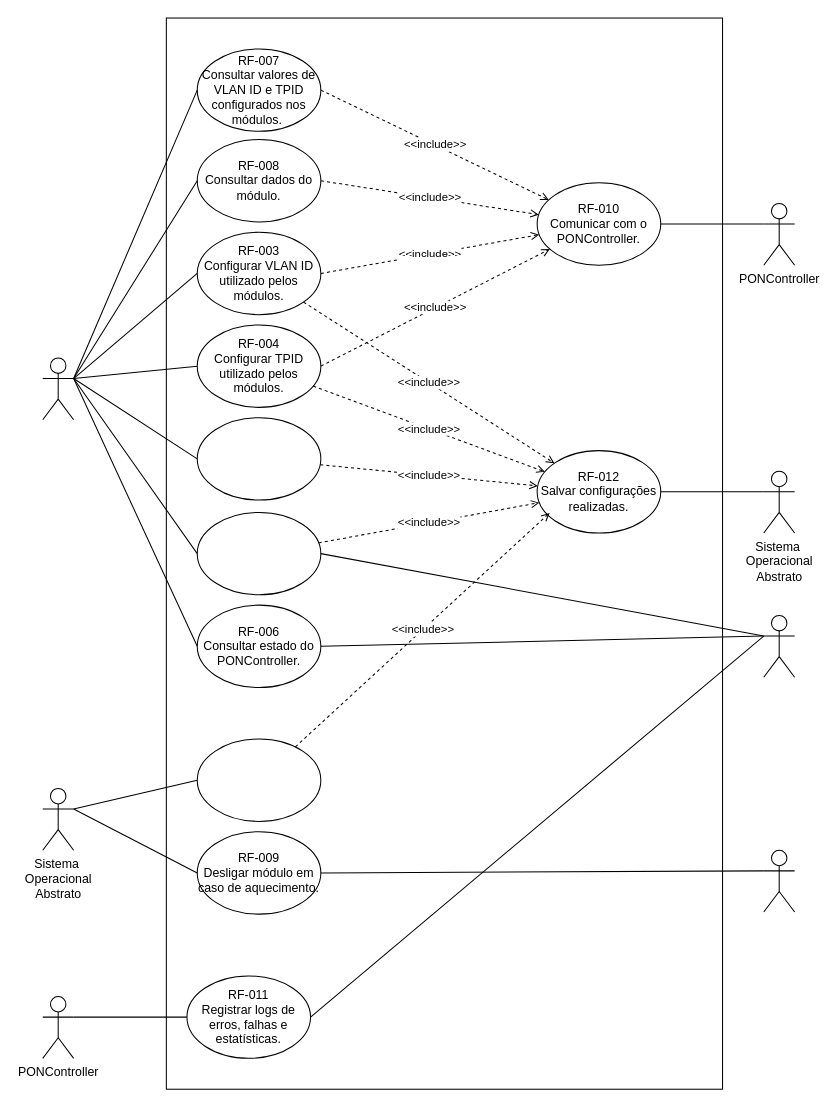
The diagram is 836 pixels wide and 1107 high, and some of its shapes have lost their labels. Here are the shapes that lost their labels. From the top down, the box of each, then its label:
(42, 357, 74, 420): Usuário
(196, 417, 321, 500): RF-001 Configurar IP banco de dados
(196, 511, 321, 595): RF-002 Inicializar ou parar PONController
(763, 614, 795, 677): Sistema Operacional
(196, 738, 321, 821): RF-005 Configurar automaticamente a porta XE.
(763, 849, 795, 912): I2C
